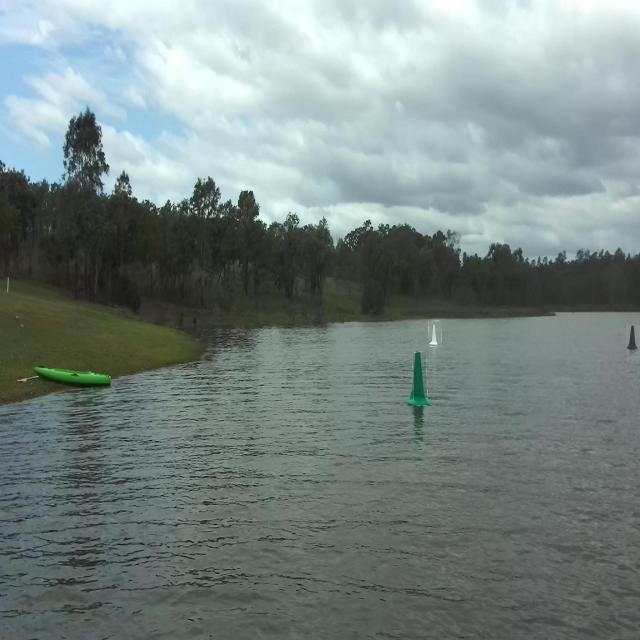Black_Buoy: (626, 325, 640, 359)
Green_Buoy: (410, 346, 432, 415)
White_Buoy: (431, 318, 443, 354)
